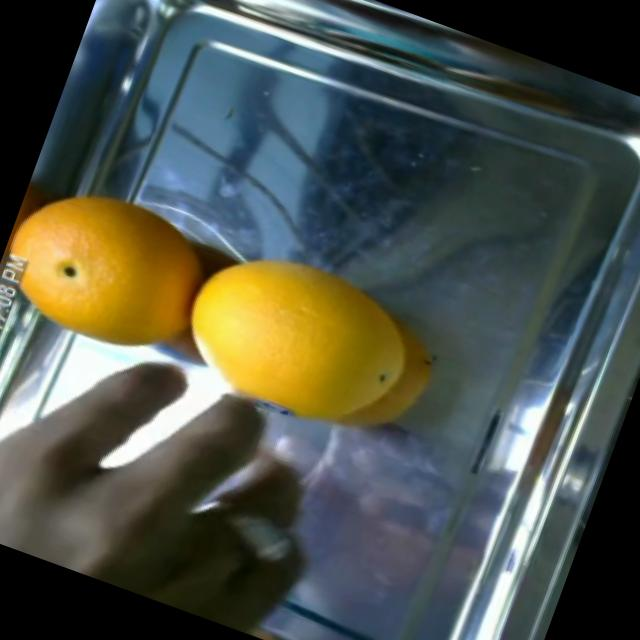Fruit: (236, 260, 466, 472)
